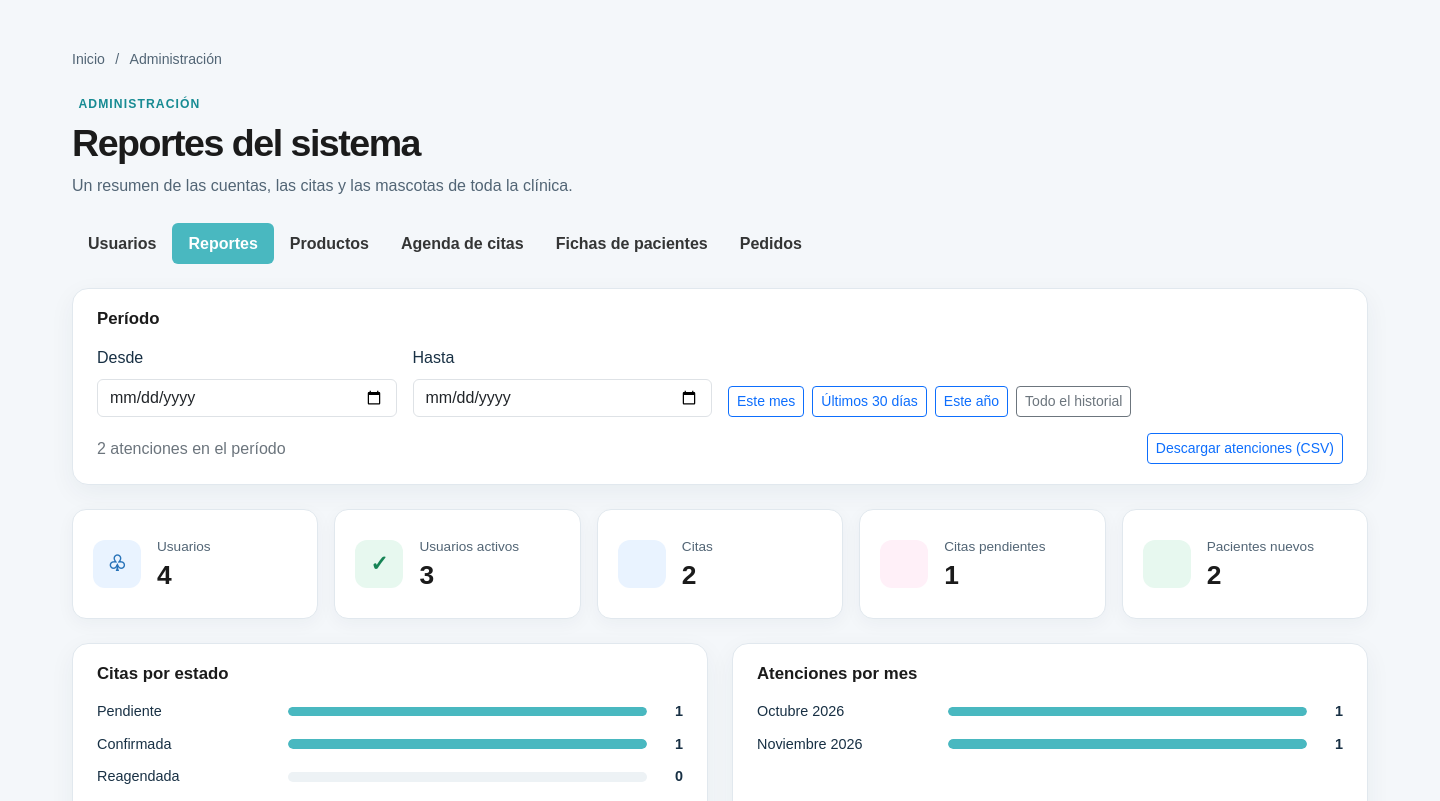
Scenario: Reportes (administración) › período y exportación › deshabilita la descarga si no hay atenciones en el período
In the date field labelled "Desde": {"x": 247, "y": 398} [97,379,396,417], type "2030-01-01"
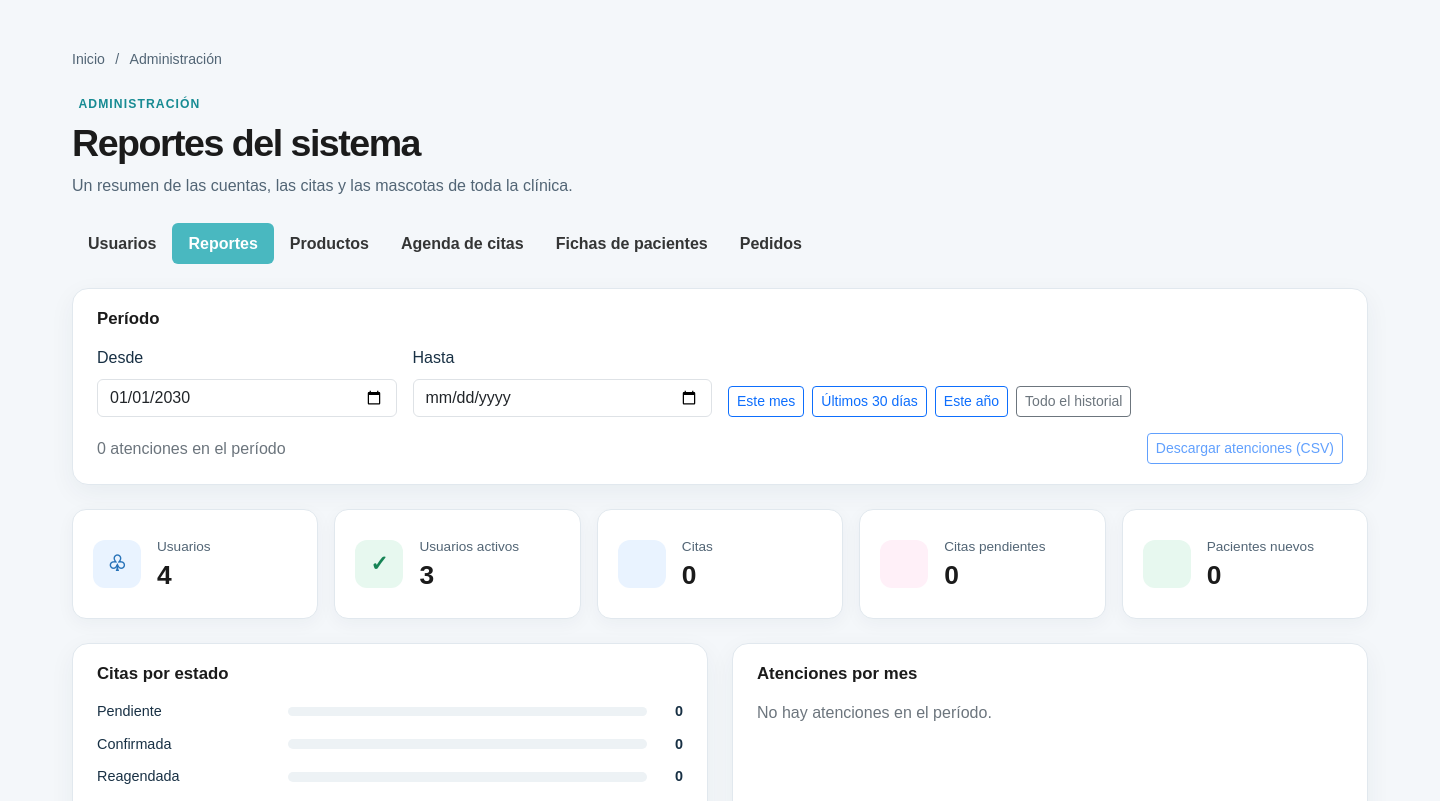
Result: the button "Descargar atenciones (CSV)" is disabled at [1147,433,1343,464]
